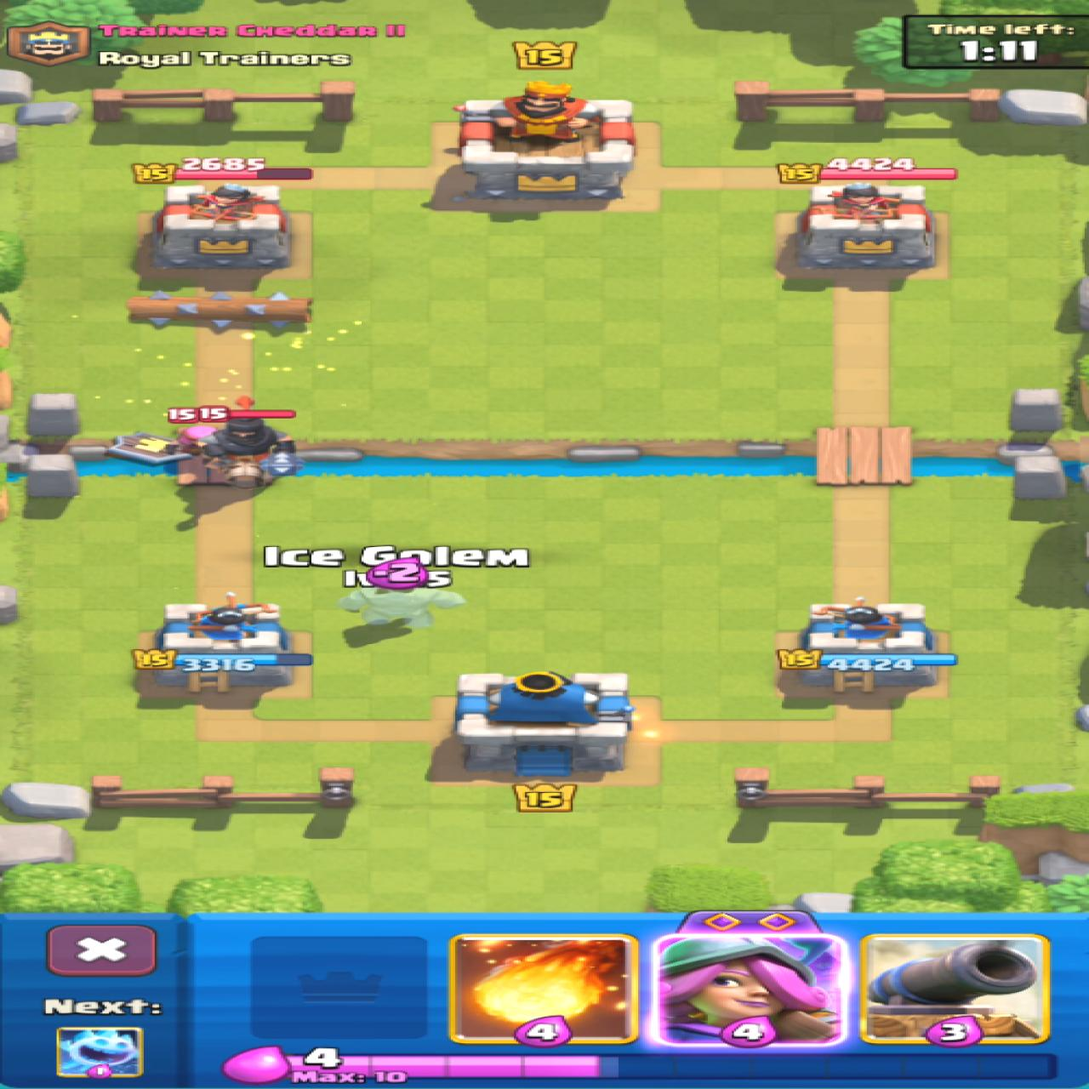Enemy-DarkPrince: (196, 396, 301, 488)
Enemy-Firecracker: (159, 408, 213, 457)
Enemy-KingTower: (453, 82, 634, 201)
Enemy-PrincessTower: (795, 183, 934, 278), (155, 184, 290, 270)
